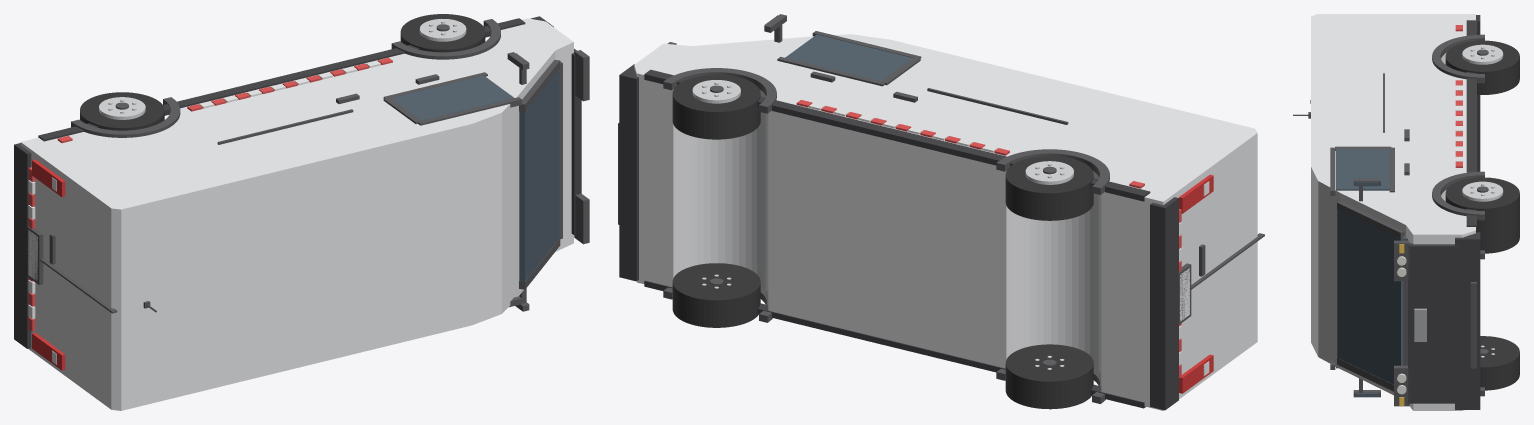
The model's file is maxence.glb.
3 views of the same model, side by side, from view 1: azimuth 30°, elevation 25°; view 2: azimuth 150°, elevation 25°; view 3: azimuth 270°, elevation 25° (orthographic). The views are drawn at different scales.
Visible parts, largest first — view 1: body_0, glass_41, black_65, glass_49, black_123, tire_14, tire_32, black_53, trim_2, trim_4, steel_33, steel_15 (+9 smaller); view 2: body_0, black_65, tire_5, tire_23, black_55, tire_14, tire_32, black_123, glass_49, black_122, trim_4, trim_2 (+6 smaller); view 3: body_0, glass_41, black_53, black_55, tire_14, tire_32, glass_49, tire_5, black_123, trim_2, trim_4, tire_23 (+13 smaller).
Boxes of the visible parts, x1,y1,x2,y2 form: body_0: (20,18,573,410); glass_41: (519,69,559,281); black_65: (14,143,31,348); glass_49: (391,75,514,120); black_123: (38,18,525,141); tire_14: (400,14,485,52); tire_32: (80,92,164,130); black_53: (571,48,581,235); trim_2: (391,19,500,59); trim_4: (71,97,180,137); steel_33: (99,97,145,119); steel_15: (419,19,466,41); body_0: (634,34,1257,410); black_65: (1150,197,1178,410); tire_5: (672,263,760,327); tire_23: (1005,344,1093,409); black_55: (619,64,638,281); tire_14: (672,75,760,139); tire_32: (1005,156,1093,220); black_123: (644,69,1150,201); glass_49: (785,34,912,81); black_122: (644,280,1145,408); trim_4: (996,149,1109,194); trim_2: (663,68,776,113); body_0: (1311,14,1475,410); glass_41: (1337,209,1403,384); black_53: (1408,243,1460,403); black_55: (1455,232,1480,409); tire_14: (1445,177,1519,231); tire_32: (1445,40,1519,94); glass_49: (1336,149,1389,190); tire_5: (1480,336,1519,390); black_123: (1466,20,1476,230); trim_2: (1432,171,1484,220); trim_4: (1432,34,1484,83); tire_23: (1476,217,1519,253).
Bounding box in the file's own units: 5.11 × 2.28 × 2.17.
